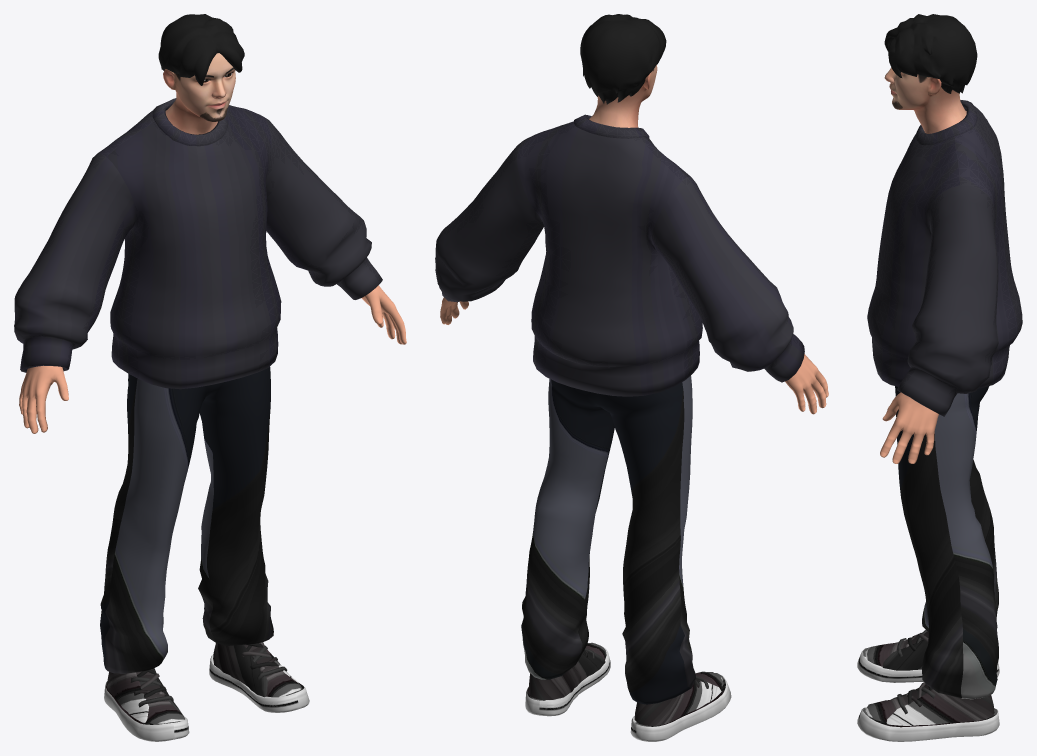
Rendered from Ready_Player_Model.fbx.
3 renders of one model, left to right at view 1: azimuth 30°, elevation 25°; view 2: azimuth 150°, elevation 25°; view 3: azimuth 270°, elevation 25°, orthographic.
Visible parts, largest first — view 1: Wolf3D_Outfit_Top, Wolf3D_Outfit_Bottom, Wolf3D_Outfit_Footwear, Wolf3D_Hair, Wolf3D_Head, Wolf3D_Body; view 2: Wolf3D_Outfit_Top, Wolf3D_Outfit_Bottom, Wolf3D_Outfit_Footwear, Wolf3D_Hair, Wolf3D_Body, Wolf3D_Head; view 3: Wolf3D_Outfit_Top, Wolf3D_Outfit_Bottom, Wolf3D_Outfit_Footwear, Wolf3D_Hair, Wolf3D_Head, Wolf3D_Body.
Boxes of the visible parts, bbox=[...] form: Wolf3D_Outfit_Top: bbox=[14, 98, 382, 389]; Wolf3D_Outfit_Bottom: bbox=[100, 367, 273, 673]; Wolf3D_Outfit_Footwear: bbox=[104, 642, 309, 741]; Wolf3D_Hair: bbox=[158, 14, 244, 85]; Wolf3D_Head: bbox=[163, 53, 235, 134]; Wolf3D_Body: bbox=[19, 285, 406, 433]; Wolf3D_Outfit_Top: bbox=[435, 114, 804, 396]; Wolf3D_Outfit_Bottom: bbox=[521, 376, 695, 704]; Wolf3D_Outfit_Footwear: bbox=[525, 642, 731, 741]; Wolf3D_Hair: bbox=[580, 14, 666, 104]; Wolf3D_Body: bbox=[440, 297, 828, 414]; Wolf3D_Head: bbox=[589, 65, 657, 127]; Wolf3D_Outfit_Top: bbox=[867, 100, 1022, 416]; Wolf3D_Outfit_Bottom: bbox=[895, 386, 998, 699]; Wolf3D_Outfit_Footwear: bbox=[857, 630, 999, 741]; Wolf3D_Hair: bbox=[884, 14, 977, 93]; Wolf3D_Head: bbox=[884, 67, 966, 133]; Wolf3D_Body: bbox=[880, 392, 938, 463].
Size of the model in its own units: 1.06 by 1.85 by 0.405.
8 materials, 8 textured.
